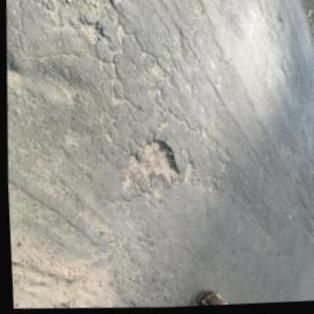Hueco: (128, 138, 181, 189), (78, 21, 103, 48)
